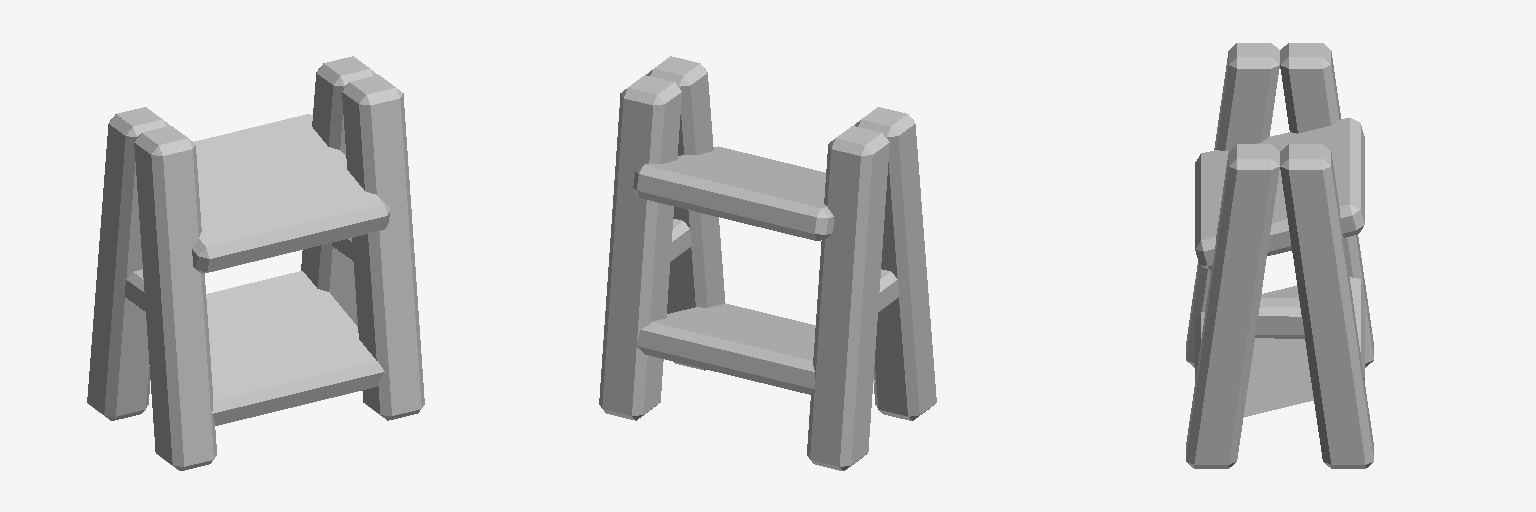
The model's file is crate_cabinet.obj.
3 renders of one model, left to right at view 1: azimuth 30°, elevation 25°; view 2: azimuth 150°, elevation 25°; view 3: azimuth 270°, elevation 25°, orthographic.
Visible parts, largest first — view 1: crate_cabinet; view 2: crate_cabinet; view 3: crate_cabinet.
Part boxes in pixels (bbox=[...]): crate_cabinet: bbox=[87, 56, 424, 470]; crate_cabinet: bbox=[599, 56, 936, 470]; crate_cabinet: bbox=[1186, 43, 1373, 468].
Bounding box in the file's own units: 1.7 × 2 × 1.1.